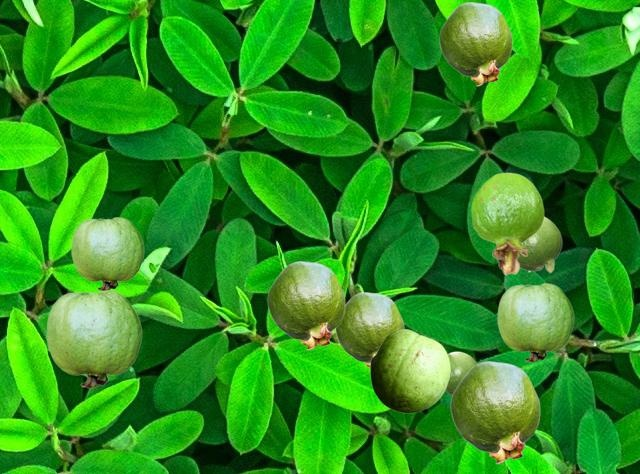guava: (46, 290, 141, 387), (450, 361, 539, 463), (471, 172, 543, 274), (267, 261, 344, 349), (370, 329, 449, 412), (439, 2, 511, 85), (497, 283, 573, 361), (71, 217, 143, 290), (335, 292, 403, 367), (518, 216, 561, 272), (446, 351, 477, 394)
